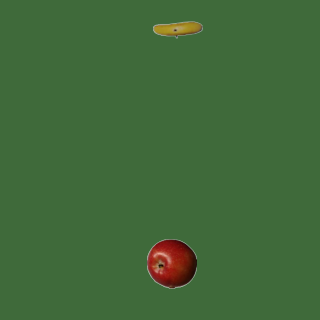Apple Braeburn: (146, 238, 196, 288)
Banana: (152, 4, 202, 54)
